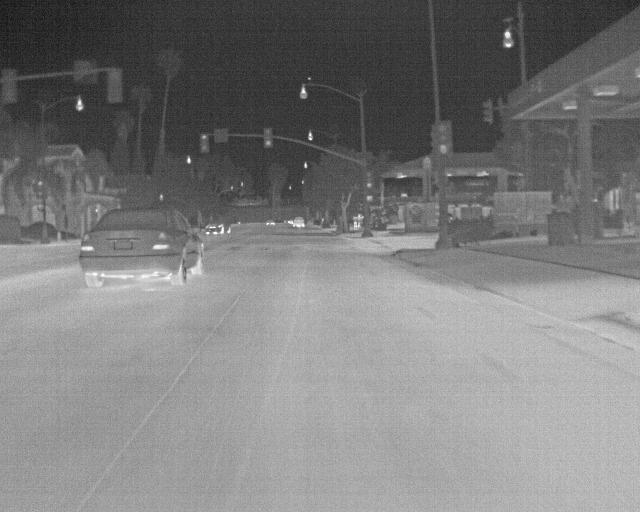car: (77, 205, 204, 288), (205, 217, 233, 235), (290, 216, 307, 230)
